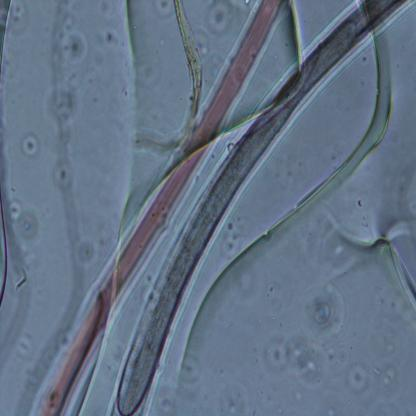Background material: (254, 34, 392, 253), (264, 276, 348, 391), (332, 207, 416, 313), (47, 4, 89, 137), (0, 197, 19, 303), (9, 202, 40, 242), (342, 358, 376, 394), (0, 0, 16, 73), (209, 5, 239, 40), (77, 237, 104, 263), (54, 163, 74, 190), (26, 133, 38, 160)
Cotton: (128, 0, 203, 150)
Microfibre: (111, 0, 407, 416), (39, 0, 286, 416)
